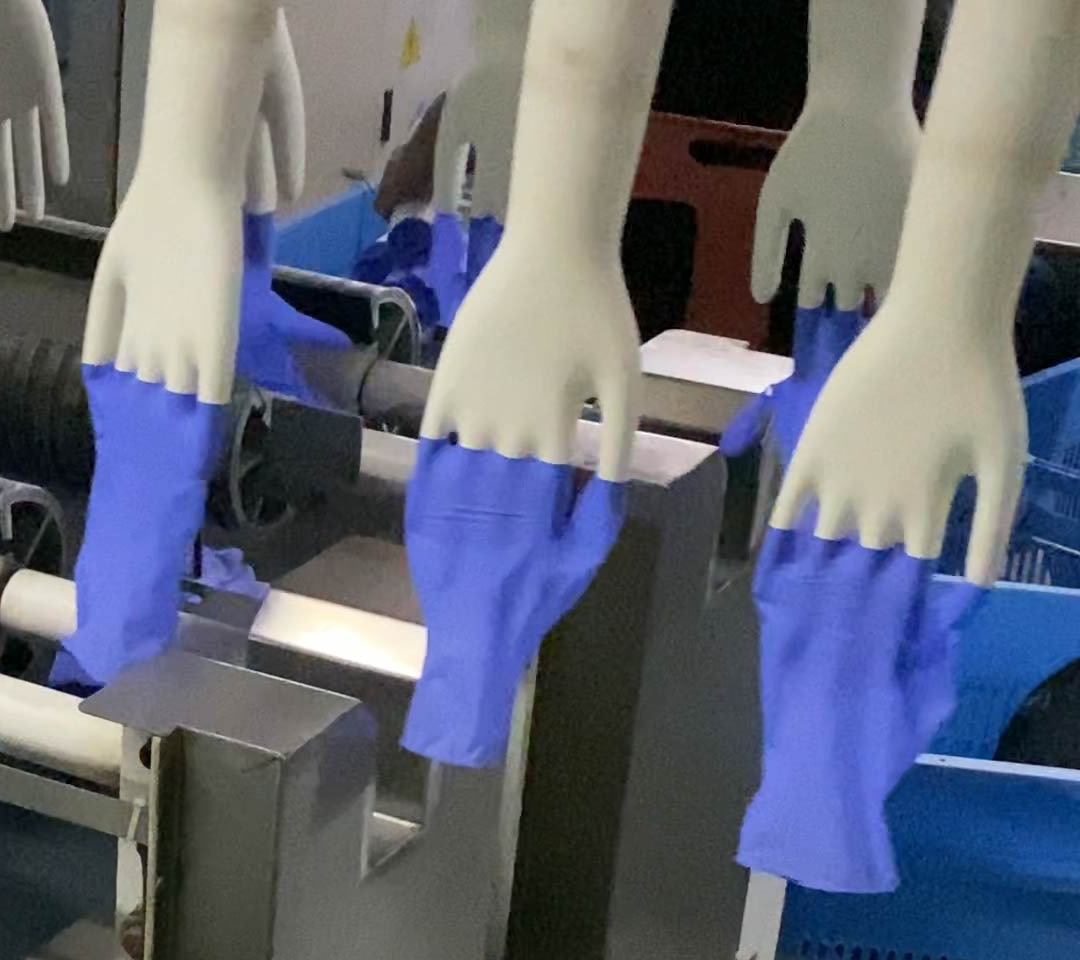glove: (732, 522, 987, 898), (389, 431, 623, 769), (67, 362, 213, 687)
